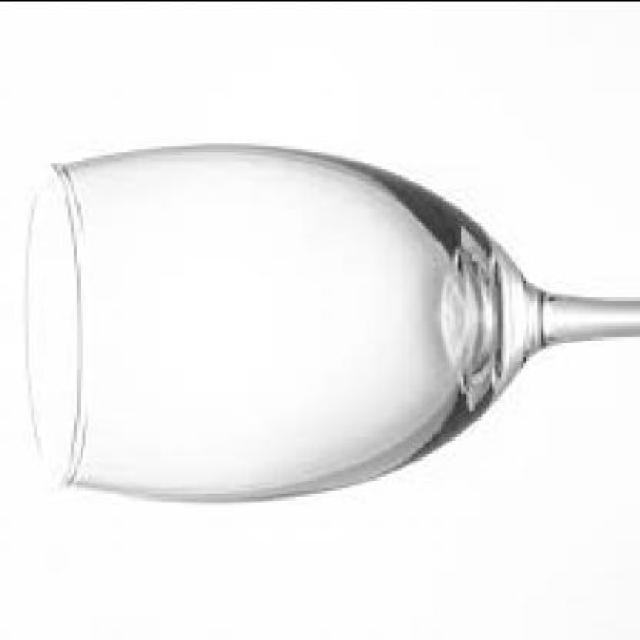glass: (23, 148, 639, 503)
